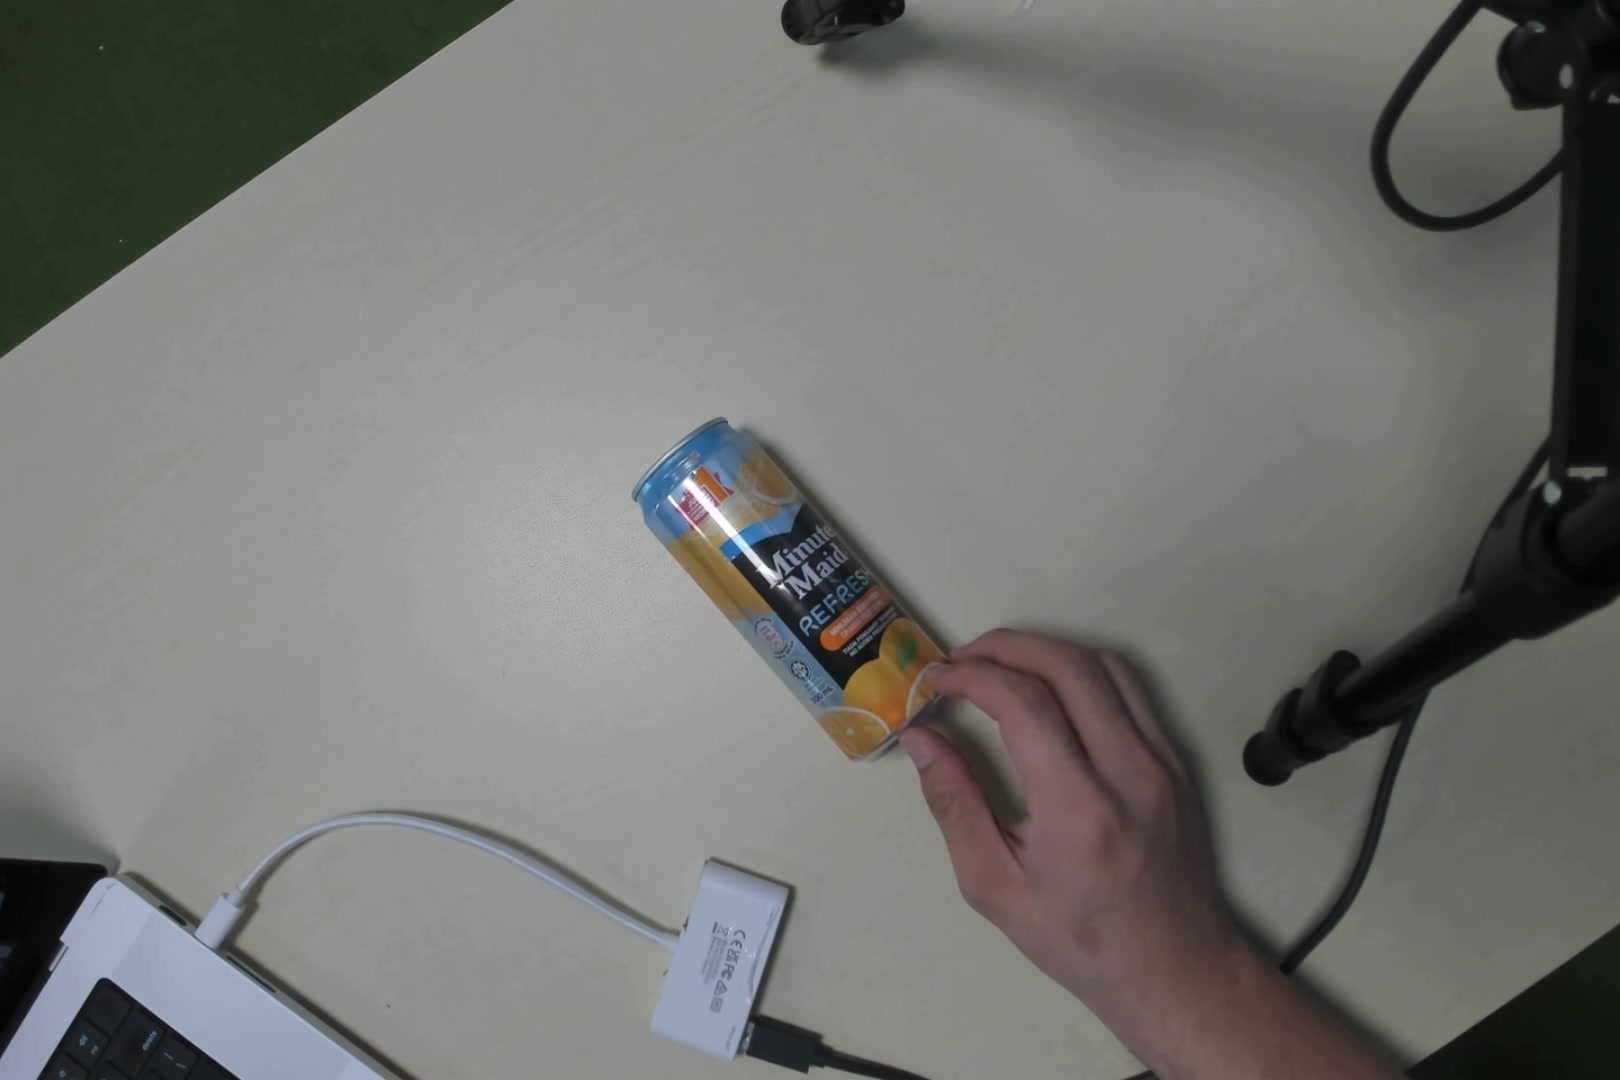SoftDrinks_200-299g_Halal_Healthy: (677, 425, 945, 749)
